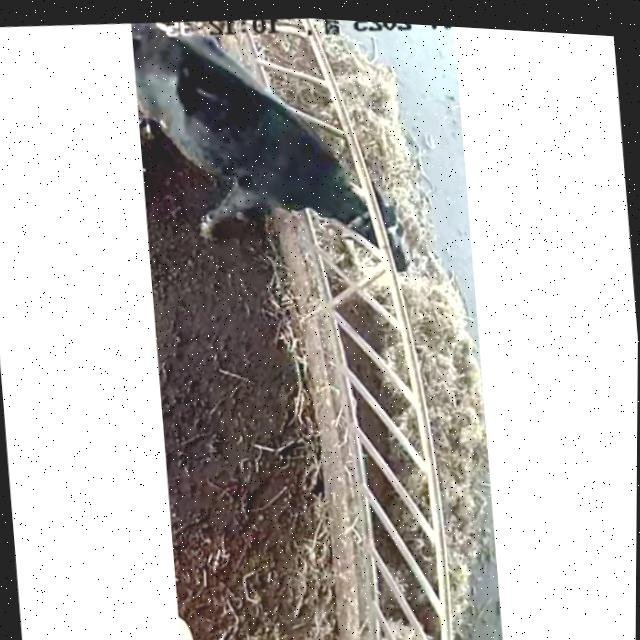eat: (213, 109, 448, 298)
